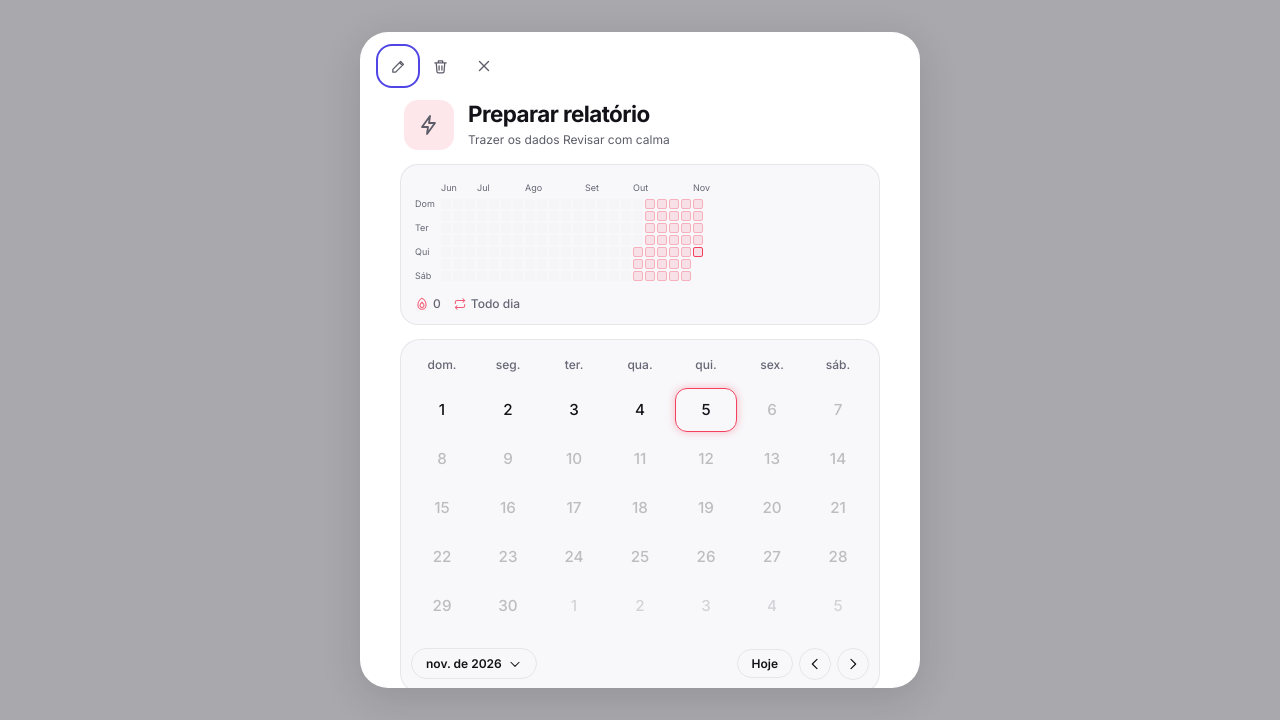
Test case: navegação de hábitos › abre o calendário pela entrada task e edita diretamente, voltando ao cancelar
Later steps or results of the test are not shown.
Expected: the element with class "habit-calendar-view" is shown, [400,96,880,688]
Click the button named "Editar hábito".
click(398, 66)  # box [380,48,416,84]
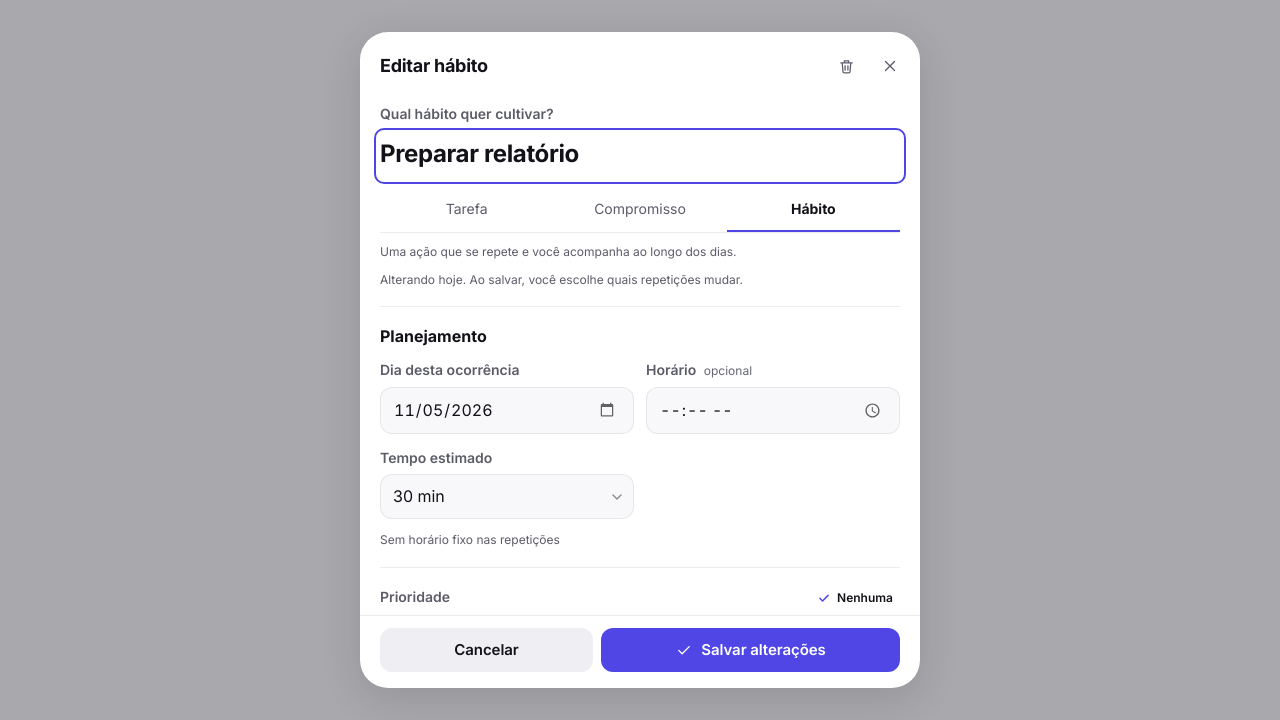
Expected: the text box labelled "Qual hábito quer cultivar?" is shown, [380,134,900,178]
Expected: the button "Salvar alterações" is shown, [601,628,900,672]
Click the button "Cancelar".
click(486, 650)  # box [380,628,593,672]
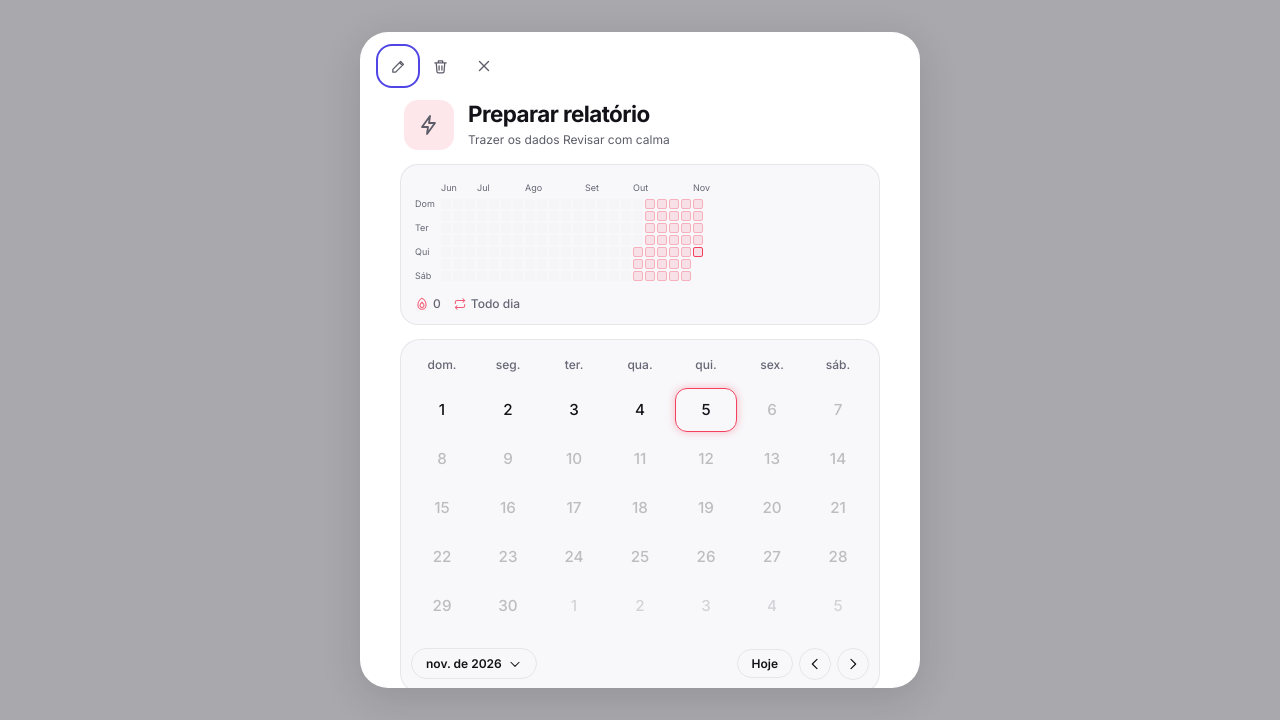
Expected: the element with class "habit-calendar-view" is shown, [400,96,880,688]
